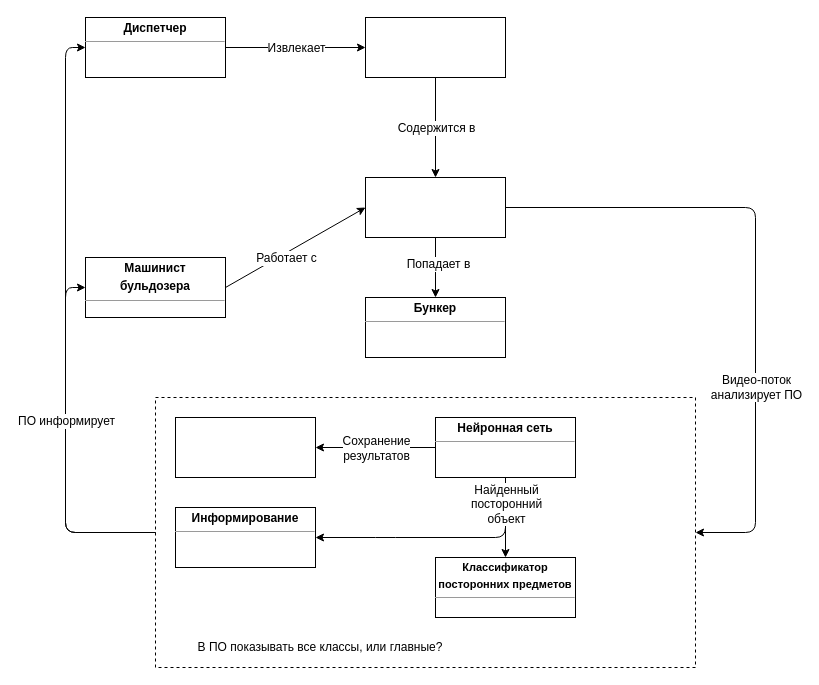
The diagram is 819 pixels wide and 685 high, and some of its shapes have lost their labels. The box of each missing label's shape, as (x1, y1, x2, y2) in pixels:
База данных: (174, 416, 316, 478)
Посторонний предмет: (364, 16, 506, 78)
Сыпучий материал: (364, 176, 506, 238)
